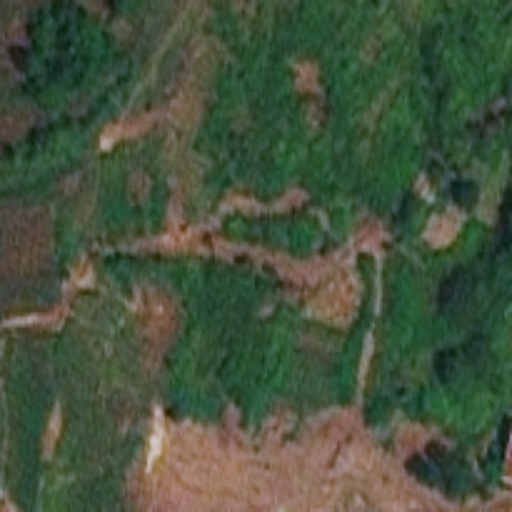landslide: (95, 186, 385, 327), (126, 413, 449, 512), (97, 32, 215, 176)
